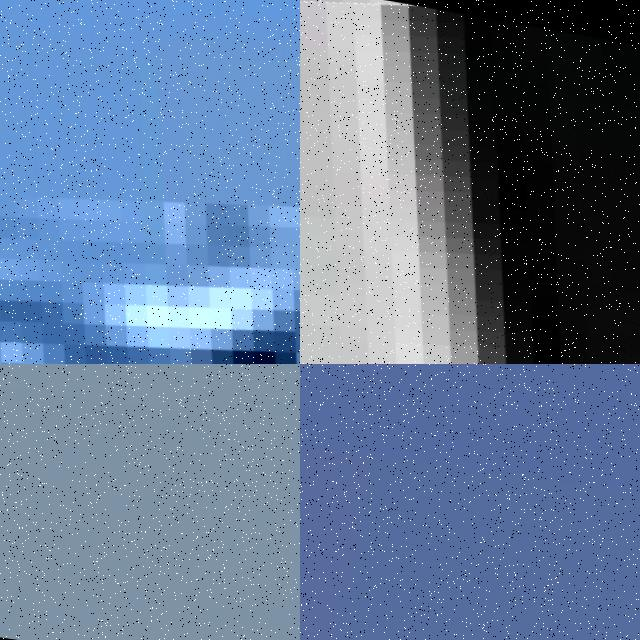drone: (300, 0, 640, 364), (0, 0, 300, 364)
